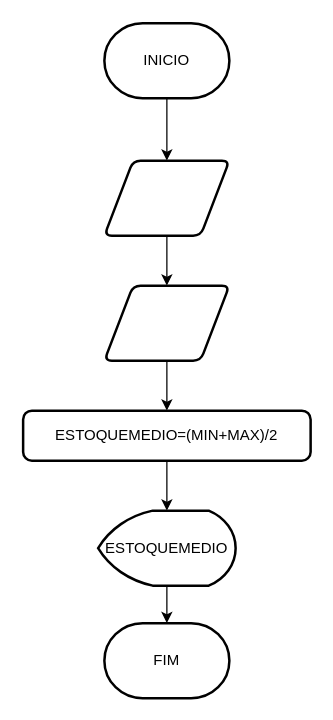
Image size: 333x720. Some labels were removed from this diagram. The box of each missing label's shape, as (x1, y1, x2, y2) in pixels:
MAX: (102, 284, 230, 361)
MIN: (102, 159, 230, 236)
